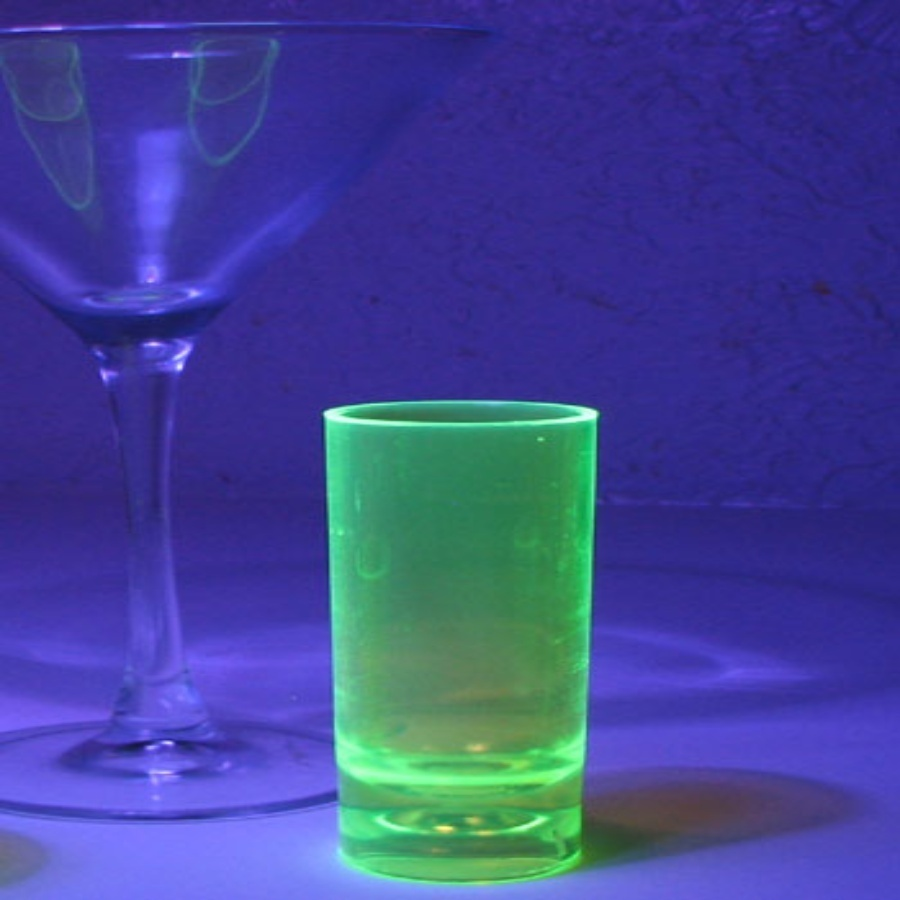whiskey: (307, 411, 601, 883)
